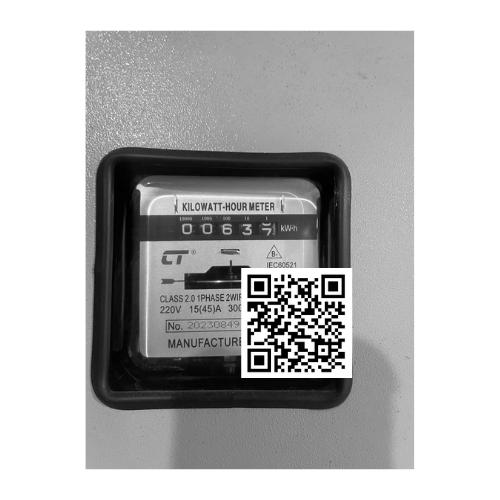qr_code: (243, 268, 353, 378)
